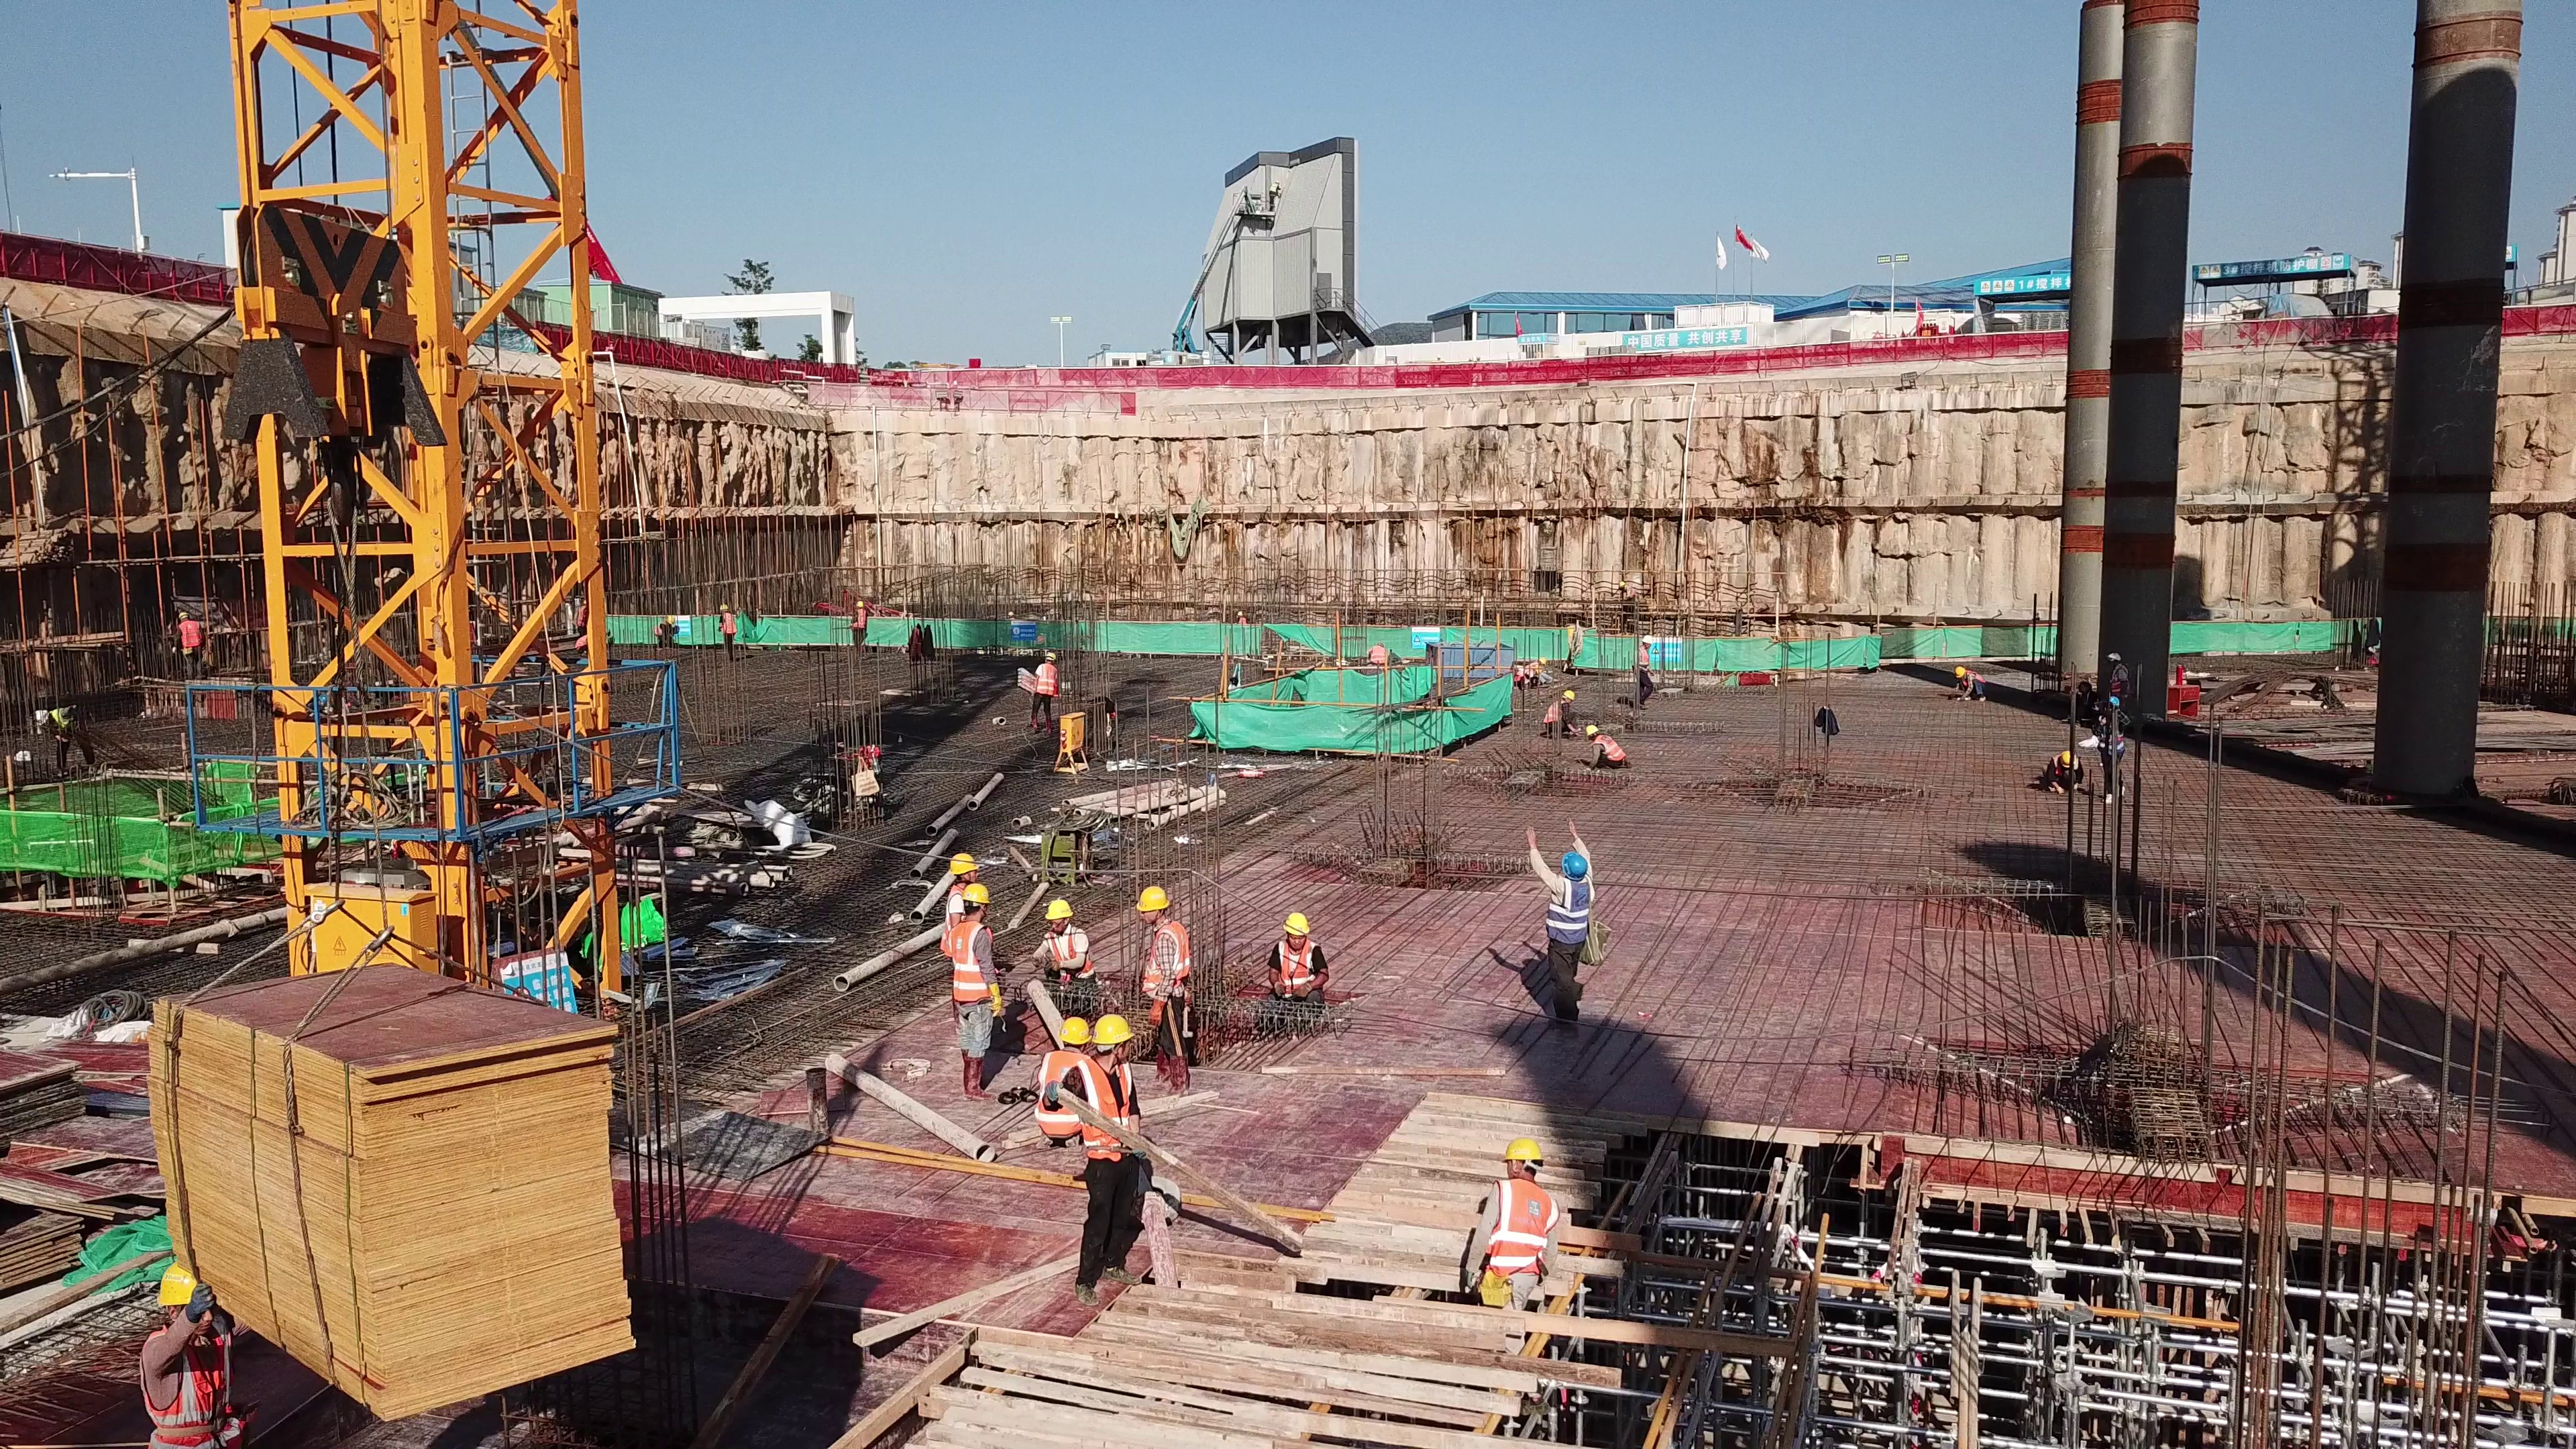helmet: (153, 1268, 212, 1310), (1094, 1018, 1134, 1046), (1504, 1138, 1543, 1164), (1136, 883, 1170, 909), (1044, 899, 1075, 924), (963, 881, 994, 904), (1280, 911, 1317, 931), (1554, 854, 1589, 875), (945, 853, 975, 872), (2058, 753, 2083, 770), (33, 705, 50, 731), (2107, 649, 2123, 665), (2106, 697, 2125, 710), (664, 614, 682, 627), (1583, 722, 1597, 735), (1950, 667, 1965, 678), (1640, 633, 1653, 646), (855, 598, 869, 608), (717, 602, 731, 612), (1046, 650, 1057, 660), (1537, 655, 1550, 665), (1562, 688, 1576, 698), (174, 612, 193, 618), (1619, 580, 1626, 589)
person: (130, 1241, 261, 1449), (1521, 808, 1613, 1028), (1456, 1129, 1559, 1299), (1083, 1010, 1138, 1299), (1134, 885, 1207, 1091), (951, 883, 996, 1093), (1260, 904, 1330, 1013), (1036, 895, 1110, 1001), (1032, 1016, 1089, 1150), (2089, 694, 2136, 807), (1582, 719, 1637, 780), (1630, 625, 1663, 715), (1941, 659, 1994, 712), (1027, 646, 1059, 739), (2037, 745, 2085, 800), (175, 604, 207, 680), (847, 597, 878, 672), (1542, 690, 1580, 744), (713, 603, 746, 661), (646, 606, 680, 656), (1515, 647, 1556, 686), (941, 855, 987, 887), (572, 626, 618, 655), (2105, 649, 2135, 691), (1615, 579, 1642, 617), (571, 593, 600, 628), (1358, 639, 1393, 665), (1230, 608, 1254, 642)
vest: (146, 1332, 223, 1430), (1076, 1063, 1140, 1161), (1493, 1187, 1546, 1269), (949, 922, 1002, 1004), (1044, 1056, 1078, 1143), (1149, 930, 1193, 996), (1551, 881, 1593, 938), (1277, 943, 1316, 991), (1049, 935, 1089, 975), (2098, 717, 2132, 757), (49, 705, 82, 737), (1593, 736, 1628, 763), (1038, 667, 1058, 698), (178, 624, 200, 648), (572, 632, 592, 652), (720, 614, 739, 639), (2108, 669, 2132, 686), (1546, 701, 1561, 727), (855, 612, 871, 634), (1963, 670, 1982, 686), (575, 605, 590, 623), (1636, 647, 1650, 668), (649, 625, 665, 637)
